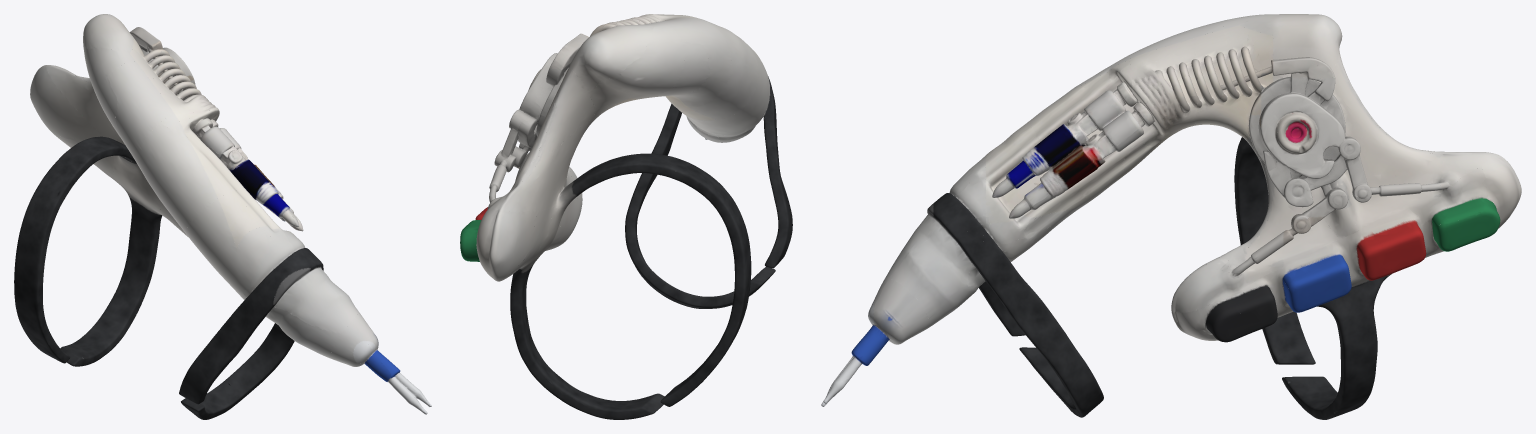
The model's file is somepen-web.glb.
The picture shows the model from 3 angles, left to right: view 1: azimuth 30°, elevation 25°; view 2: azimuth 150°, elevation 25°; view 3: azimuth 270°, elevation 25°; orthographic projection. The views are drawn at different scales.
Visible parts, largest first — view 1: Pen_Concept_Body; view 2: Pen_Concept_Body; view 3: Pen_Concept_Body.
Boxes of the visible parts, bbox=[...] form: Pen_Concept_Body: bbox=[14, 14, 431, 419]; Pen_Concept_Body: bbox=[460, 14, 792, 419]; Pen_Concept_Body: bbox=[821, 14, 1521, 419].
Bounding box in the file's own units: 0.0697 × 0.0982 × 0.155.
11 materials, 11 textured.
